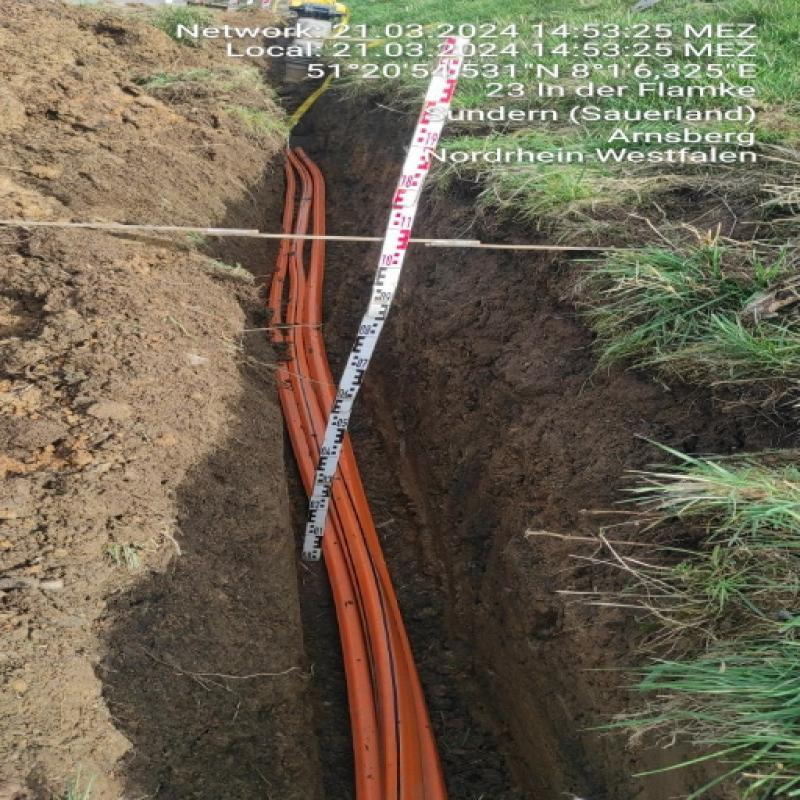Orang-Speednetrohrchen: (321, 432, 445, 797), (266, 213, 336, 490)
